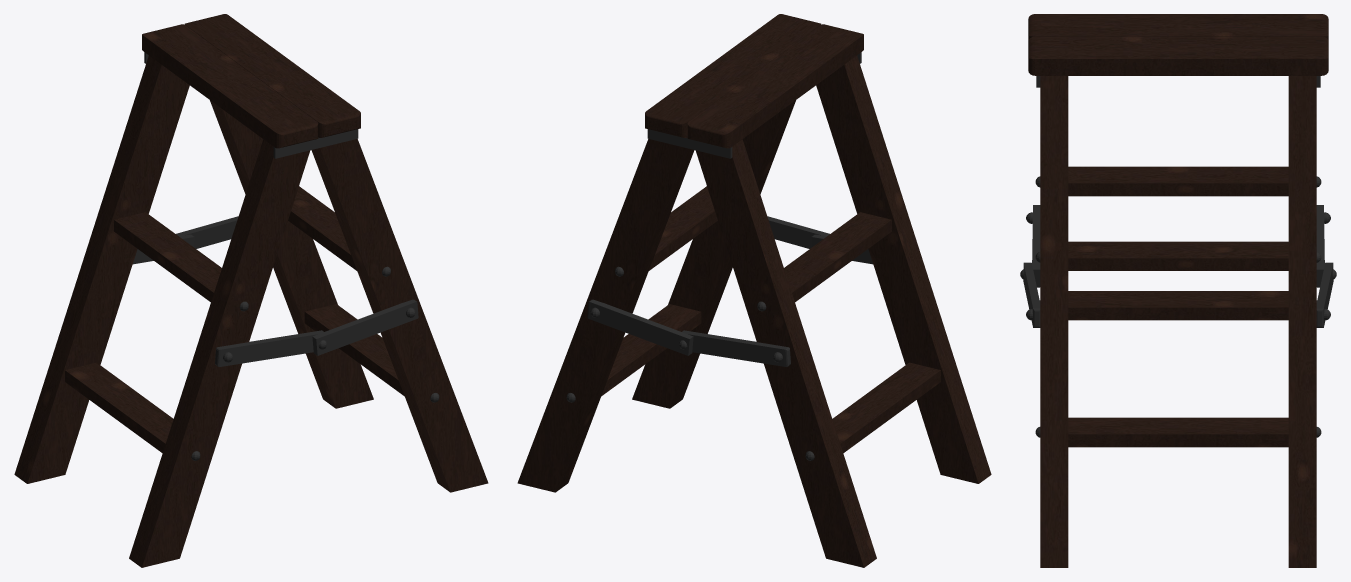
The model's file is Stepladder.gltf.
3 renders of one model, left to right at view 1: azimuth 30°, elevation 25°; view 2: azimuth 150°, elevation 25°; view 3: azimuth 270°, elevation 25°, orthographic. The views are drawn at different scales.
Visible parts, largest first — view 1: Main Body, Steps, Bolts/Metal; view 2: Main Body, Steps, Bolts/Metal; view 3: Steps, Main Body, Bolts/Metal.
Boxes of the visible parts, x1,y1,x2,y2 form: Main Body: (14, 55, 488, 567); Steps: (65, 14, 404, 452); Bolts/Metal: (133, 52, 439, 460); Main Body: (517, 55, 991, 567); Steps: (601, 14, 940, 452); Bolts/Metal: (566, 52, 872, 460); Steps: (1028, 14, 1328, 447); Main Body: (1040, 76, 1316, 567); Bolts/Metal: (1020, 76, 1336, 437).
Size of the model in its own units: 1.86 by 2.08 by 1.36.
2 materials, 1 textured.
